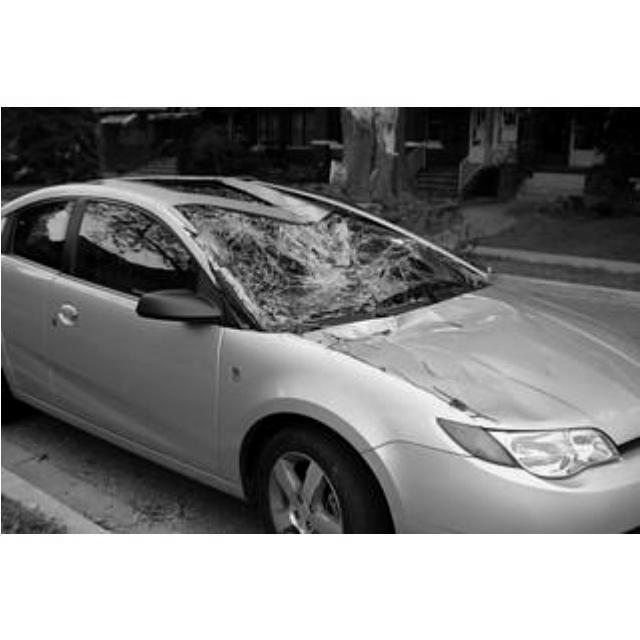Front-windscreen-damage: (179, 198, 477, 310)
bonnet-dent: (354, 305, 638, 443)
roof-dent: (71, 164, 327, 216)
